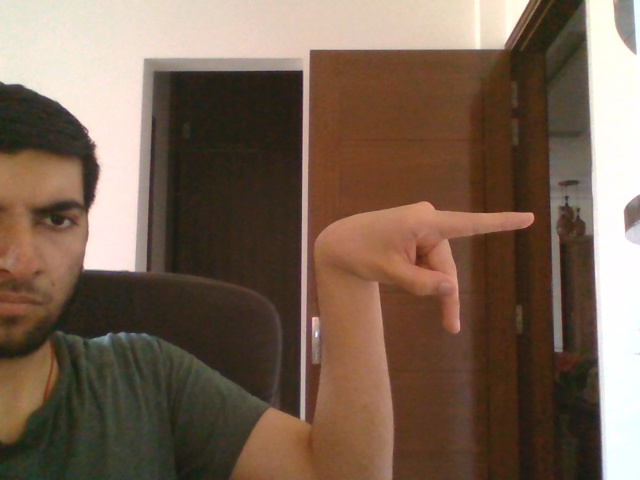LetterP: (312, 199, 535, 336)
